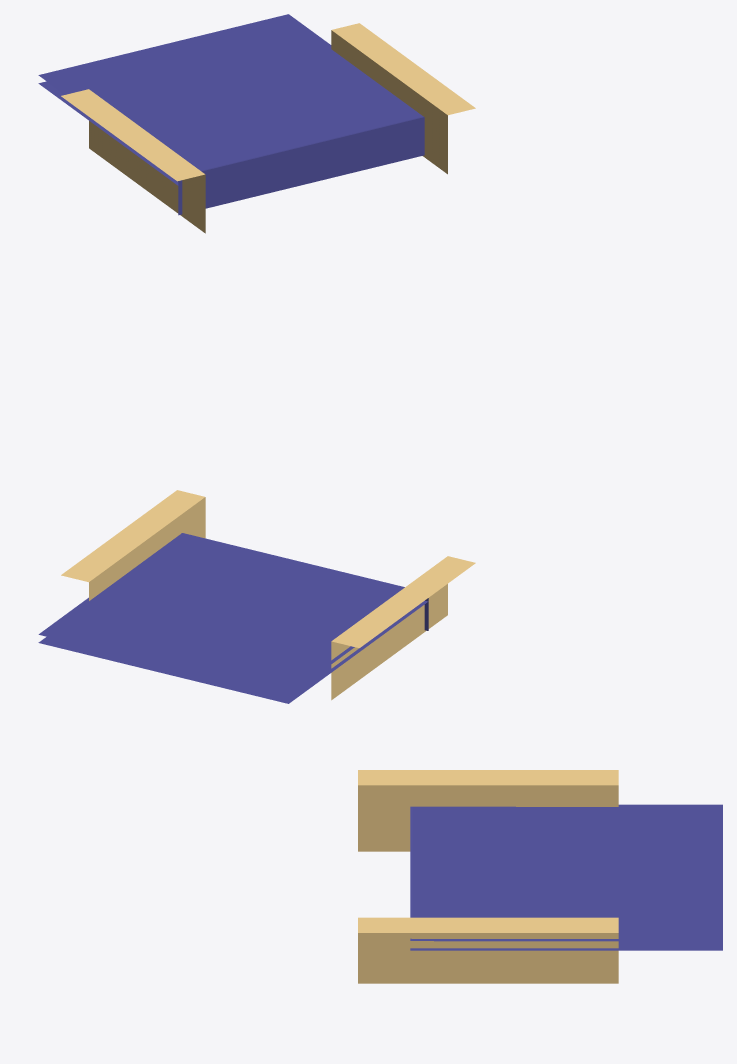
The model's file is pusher.glb.
The picture shows the model from 3 angles, top to bottom: view 1: azimuth 30°, elevation 25°; view 2: azimuth 150°, elevation 25°; view 3: azimuth 270°, elevation 25°; orthographic projection. The views are drawn at different scales.
Visible parts, largest first — view 1: platform-top, wall-left, door, wall-right; view 2: platform-top, wall-left, wall-right; view 3: platform-top, wall-right, wall-left.
Part boxes in pixels (x1,y1,x2,y2): platform-top: [38, 14, 424, 185]; wall-left: [61, 89, 205, 233]; door: [178, 126, 424, 215]; wall-right: [331, 23, 475, 174]; platform-top: [38, 533, 428, 703]; wall-left: [331, 556, 475, 700]; wall-right: [61, 490, 205, 600]; platform-top: [410, 804, 722, 950]; wall-right: [358, 917, 618, 983]; wall-left: [358, 770, 618, 851].
Bounding box in the file's own units: 1.2 × 0.14 × 1.36.
